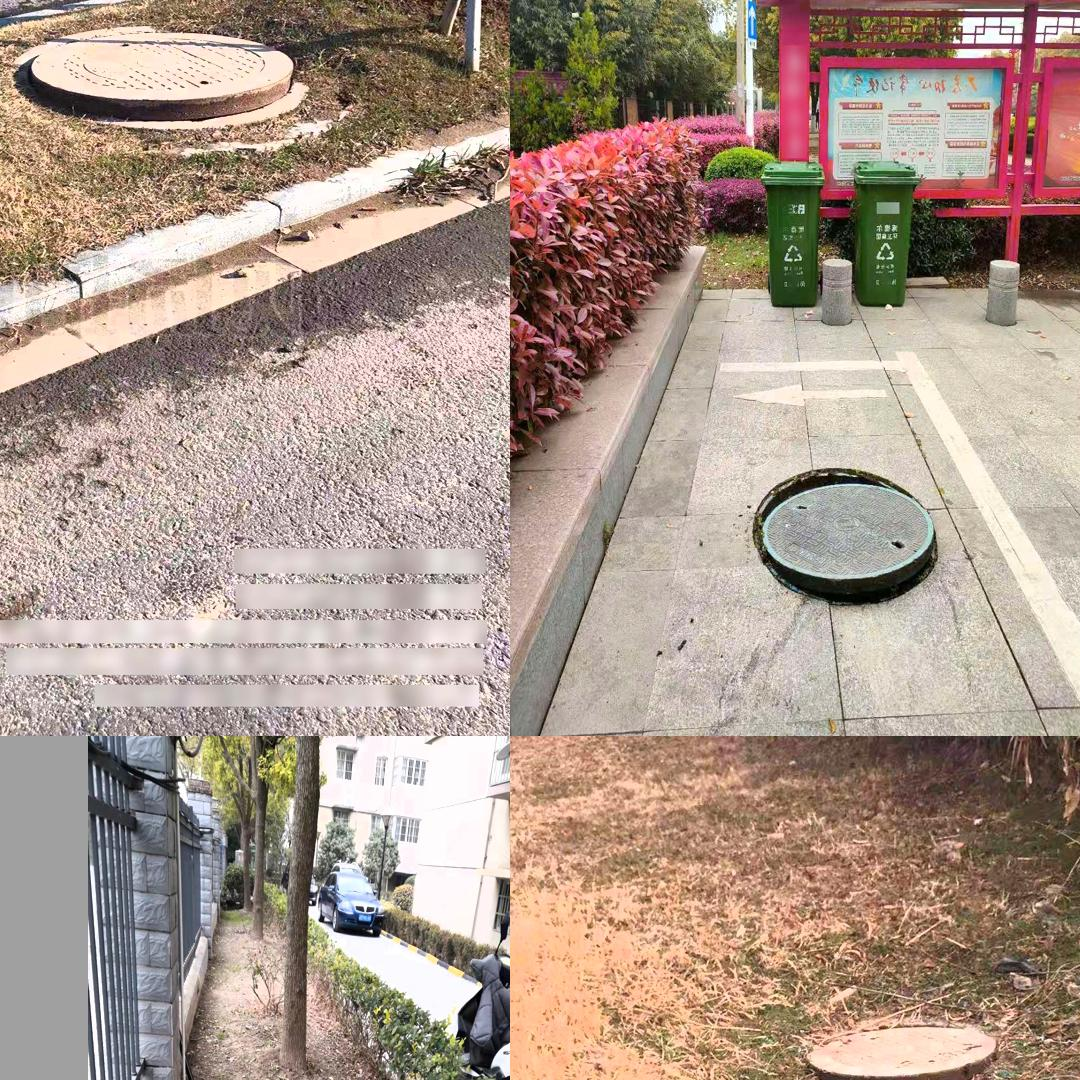uncovered: (25, 26, 306, 129), (749, 467, 937, 606), (808, 1024, 999, 1080)
